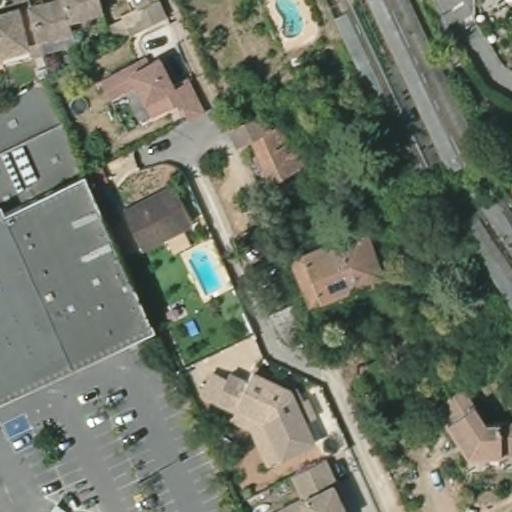pool: (189, 247, 227, 298), (269, 0, 308, 38)
